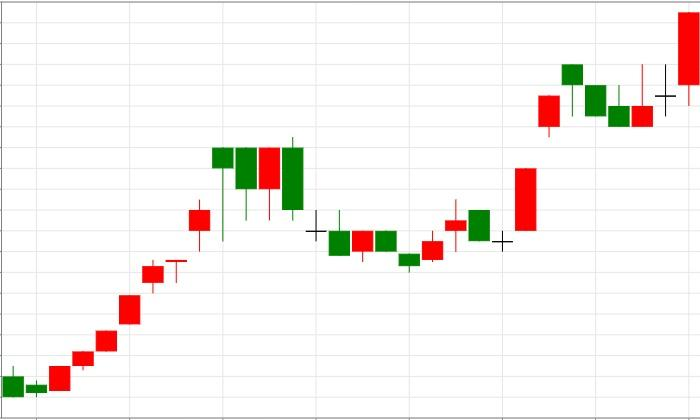hanging_man_fall: (48, 147, 233, 391)
